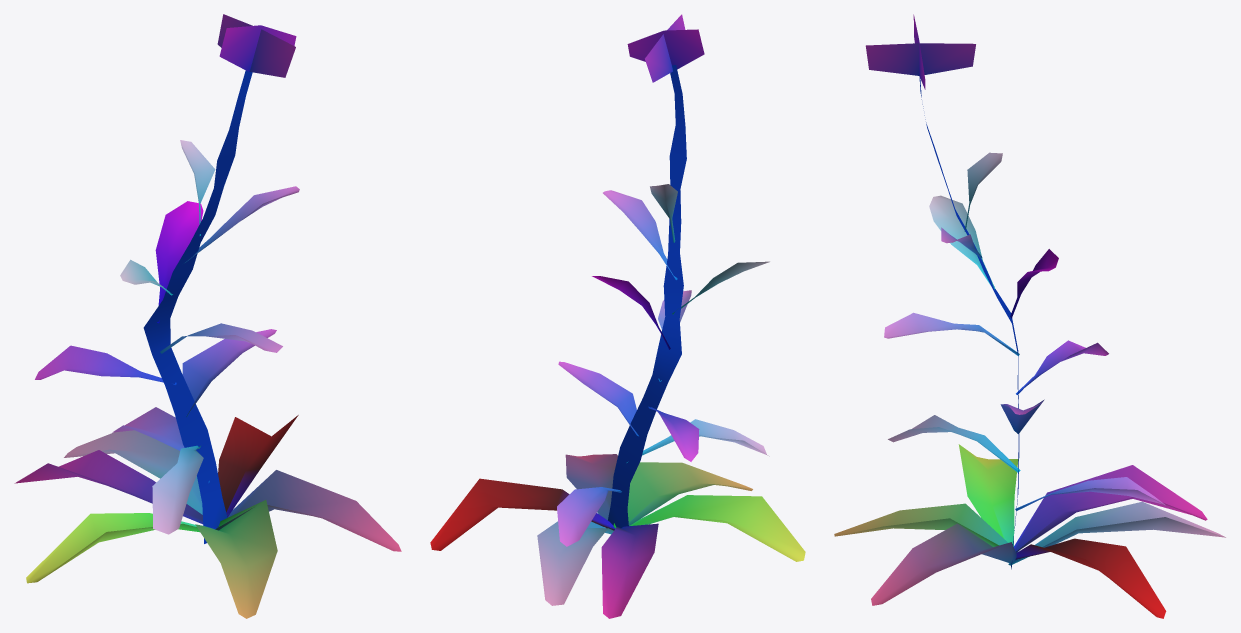
File: vmcobd0ja_VarH_LOD1.fbx
The picture shows the model from 3 angles, left to right: view 1: azimuth 30°, elevation 25°; view 2: azimuth 150°, elevation 25°; view 3: azimuth 270°, elevation 25°; orthographic projection. The views are drawn at different scales.
Parts seen in each view (by area): view 1: _jyq0_VarH_LOD3; view 2: _jyq0_VarH_LOD3; view 3: _jyq0_VarH_LOD3.
Boxes of the visible parts, left/top/right/bottom form: _jyq0_VarH_LOD3: left=14, top=14, right=401, bottom=618; _jyq0_VarH_LOD3: left=430, top=14, right=805, bottom=618; _jyq0_VarH_LOD3: left=834, top=14, right=1225, bottom=618.
Bounding box in the file's own units: 42.84 × 66.93 × 44.49.
